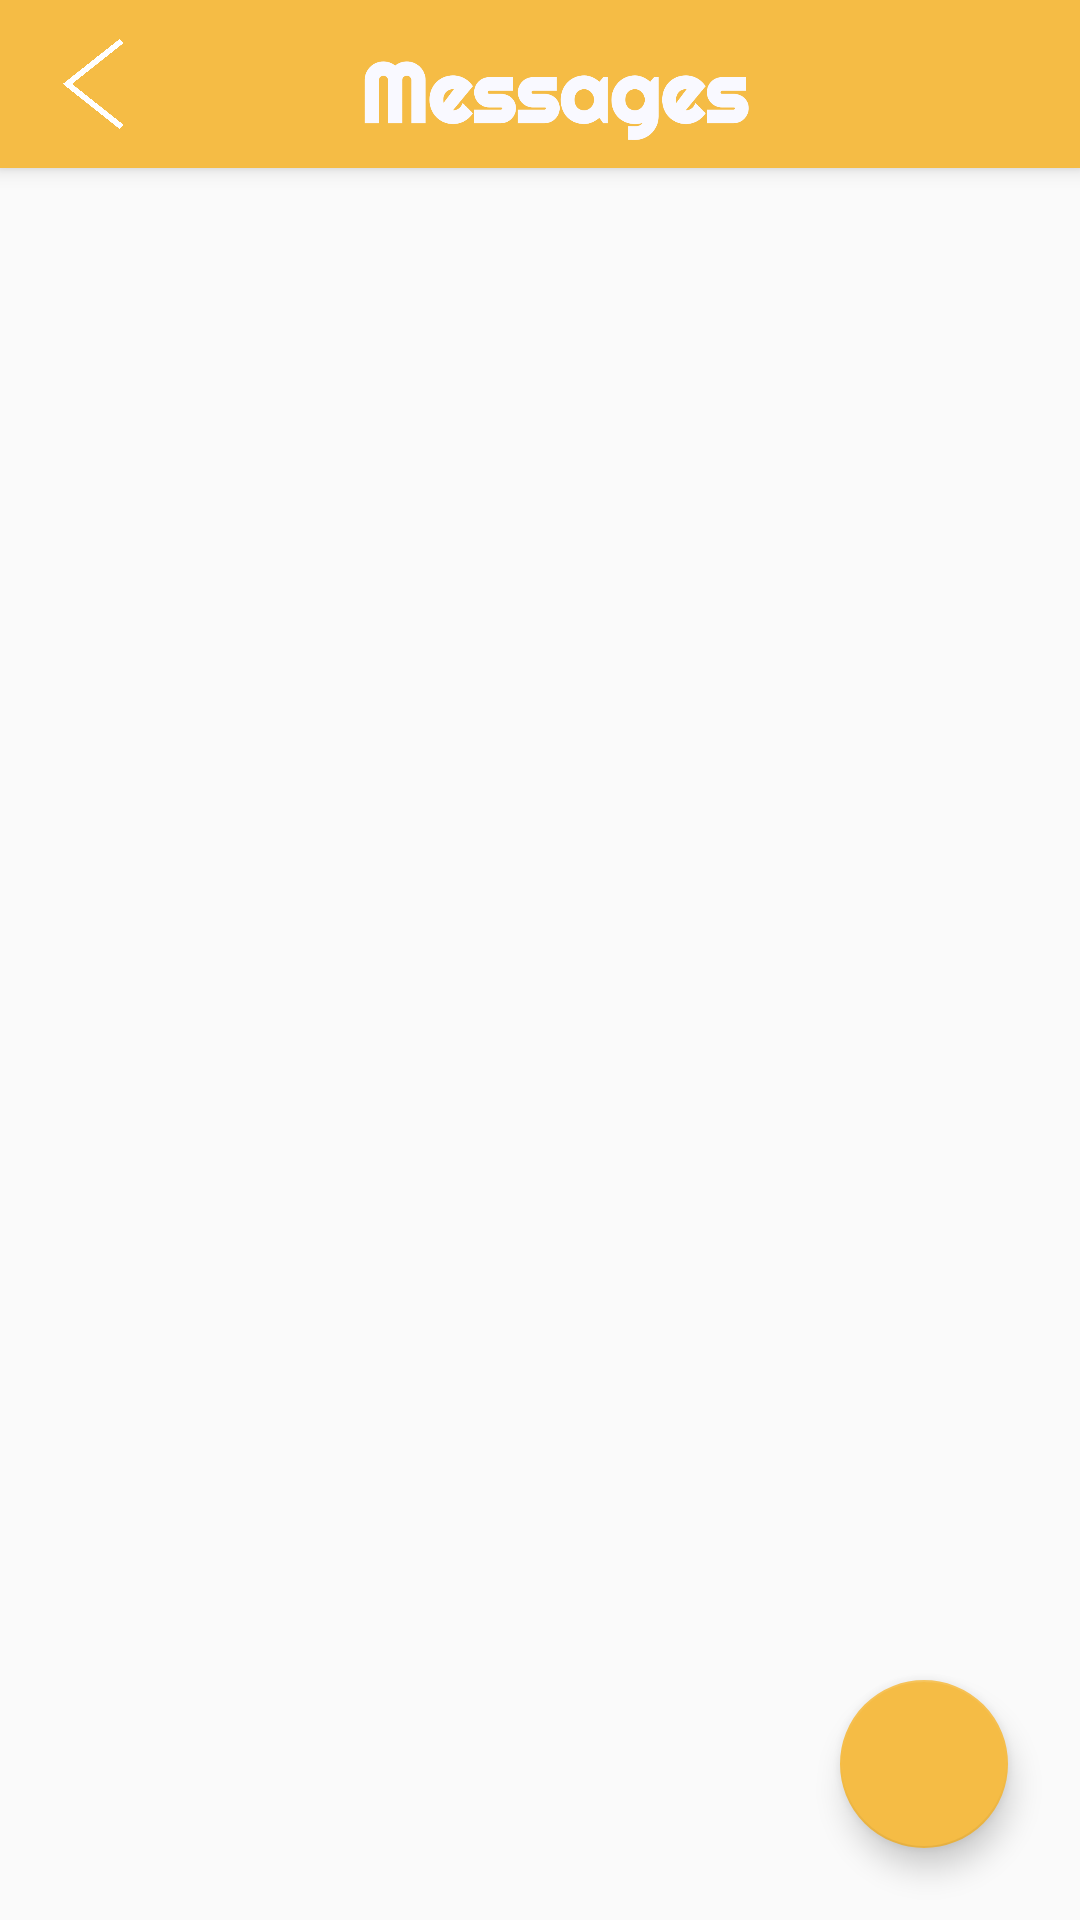

Screen size 1080w x 1920h. Icon name, then its center in pixels as [x,y]:
back: [93,84]
